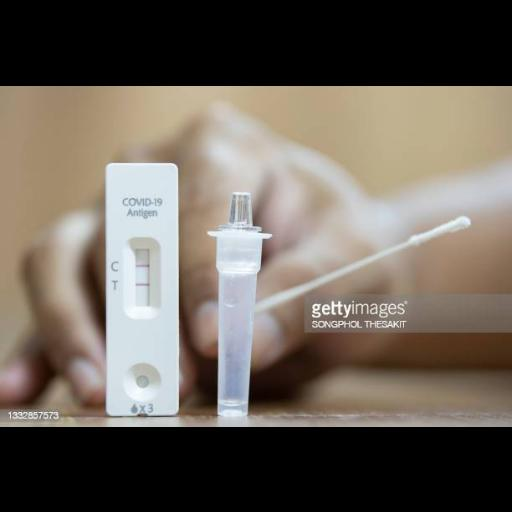Pos: (104, 161, 178, 413)
